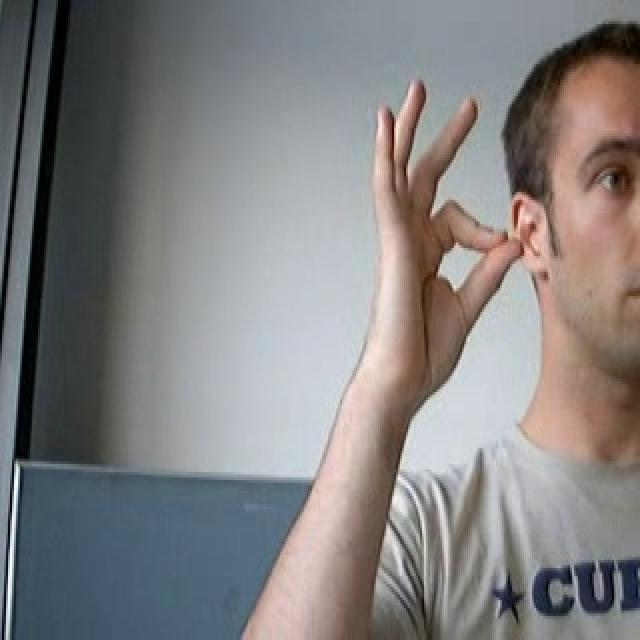F: (353, 66, 533, 419)
